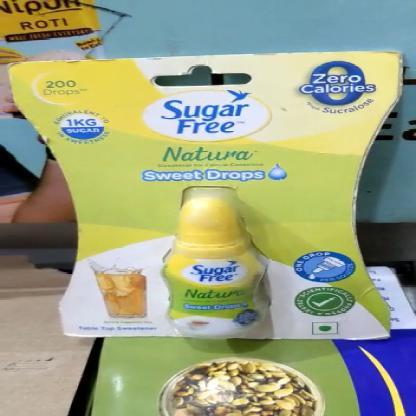SUGAR FREE NATURA SWEET DROPS: (7, 47, 402, 342)
